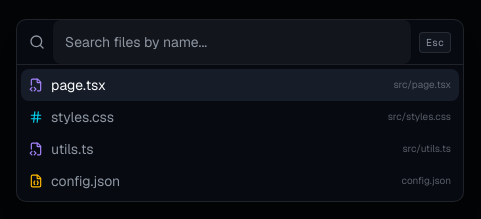
it: FileSearch › filters files based on query
The image size is (481, 219).
Type "page" into the field with placeholder "Search files by name..." at (232, 42), box x1=53 y1=20 x2=411 y2=64
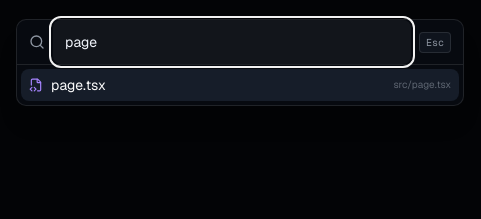
Expected: the text "page.tsx" is shown, x1=51 y1=76 x2=106 y2=94
Expected: the button "styles.css" is gone
